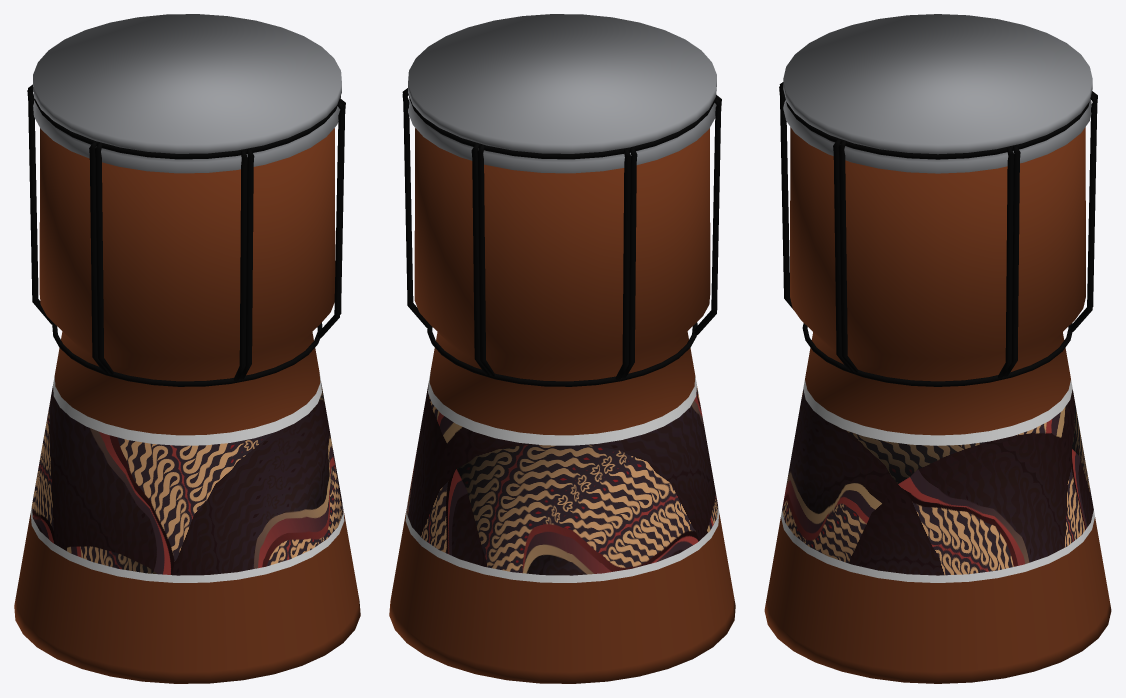
File: scene_gendang.gltf
3 views of the same model, side by side, from view 1: azimuth 30°, elevation 25°; view 2: azimuth 150°, elevation 25°; view 3: azimuth 270°, elevation 25° (orthographic).
Parts seen in each view (by area): view 1: Cylinder, Cylinder.002, Cylinder.005, Cylinder.003, Cylinder.001; view 2: Cylinder, Cylinder.002, Cylinder.005, Cylinder.003, Cylinder.001; view 3: Cylinder, Cylinder.002, Cylinder.005, Cylinder.003, Cylinder.001.
Part boxes in pixels (left/top/right/bottom): Cylinder: left=14, top=128, right=360, bottom=683; Cylinder.002: left=33, top=14, right=341, bottom=173; Cylinder.005: left=27, top=84, right=345, bottom=380; Cylinder.003: left=52, top=322, right=322, bottom=386; Cylinder.001: left=34, top=96, right=340, bottom=159; Cylinder: left=389, top=128, right=735, bottom=683; Cylinder.002: left=408, top=14, right=716, bottom=173; Cylinder.005: left=402, top=88, right=721, bottom=379; Cylinder.003: left=427, top=322, right=697, bottom=386; Cylinder.001: left=409, top=96, right=714, bottom=159; Cylinder: left=764, top=127, right=1111, bottom=683; Cylinder.002: left=783, top=14, right=1092, bottom=173; Cylinder.005: left=779, top=82, right=1097, bottom=378; Cylinder.003: left=802, top=323, right=1072, bottom=386; Cylinder.001: left=786, top=101, right=1089, bottom=159.
Bounding box in the file's own units: 0.5951 × 1.01 × 0.5951.
5 materials, 1 textured.
